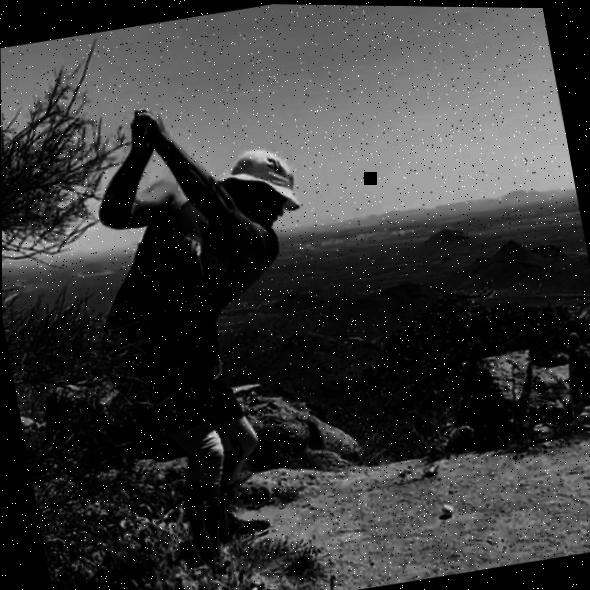GolfBall: (440, 500, 459, 521)
